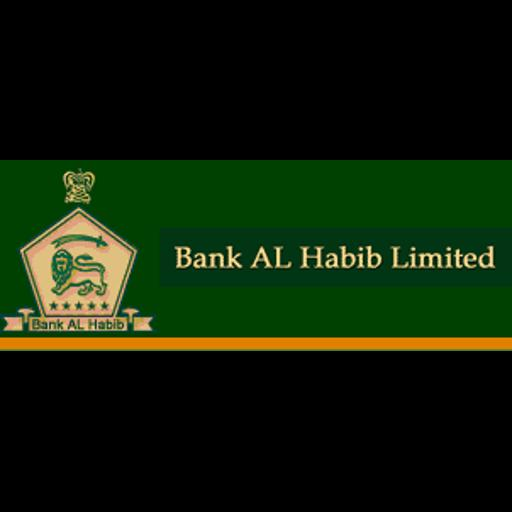Bank Al Habib: (0, 160, 512, 351)
